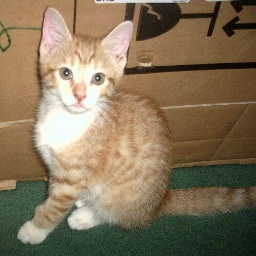cat: (14, 6, 256, 243)
